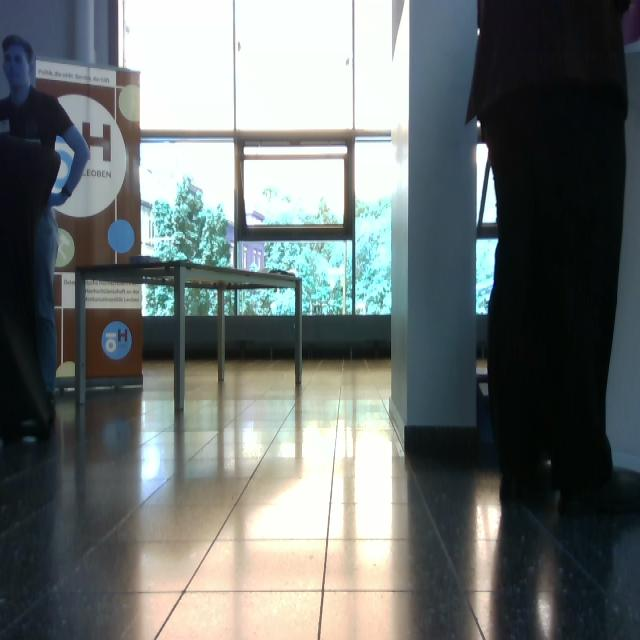door: (34, 56, 144, 385)
light bulb: (108, 219, 136, 255), (55, 228, 75, 268)
person: (465, 1, 633, 512), (1, 34, 91, 432)
pillar: (391, 1, 481, 448)
table: (73, 257, 306, 417)
tiled floor: (2, 355, 639, 639)
window: (117, 1, 398, 322)
